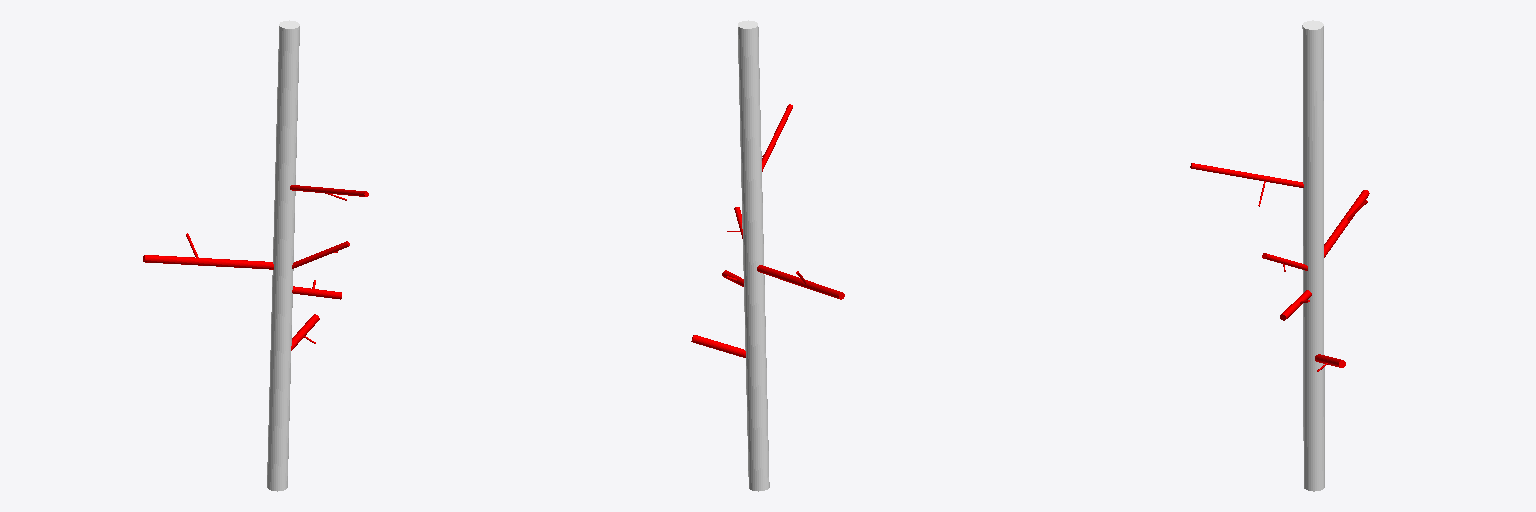
robot.urdf — tree_41.urdf:
<?xml version='1.0' encoding='UTF-8'?>
<robot name="tree_41.urdf">
  <link name="branch_0">
    <inertial>
      <origin xyz="0.0 0.0 0.0" rpy="0.0 -0.0 0.0"/>
      <mass value="0.1"/>
      <inertia ixx="0.001" ixy="0.0" ixz="0.0" iyy="0.001" iyz="0.0" izz="0.001"/>
    </inertial>
    <visual name="branch_0_visual">
      <geometry>
        <cylinder radius="0.19773685923757317" length="9.592322951526445"/>
      </geometry>
      <material name="branch_material"/>
      <origin xyz="0.12829743822661696 -0.010407475995628376 4.794433892899466" rpy="-4.3226096759708806e-19 0.0268411167059309 -0.08094266934738162"/>
    </visual>
    <collision name="branch_0_collision">
      <geometry>
        <cylinder radius="0.19773685923757317" length="9.592322951526445"/>
      </geometry>
      <origin xyz="0.12829743822661696 -0.010407475995628376 4.794433892899466" rpy="-4.3226096759708806e-19 0.0268411167059309 -0.08094266934738162"/>
    </collision>
  </link>
  <link name="branch_1">
    <inertial>
      <origin xyz="0.0 0.0 0.0" rpy="0.0 -0.0 0.0"/>
      <mass value="0.1"/>
      <inertia ixx="0.001" ixy="0.0" ixz="0.0" iyy="0.001" iyz="0.0" izz="0.001"/>
    </inertial>
    <visual name="branch_1_visual">
      <geometry>
        <cylinder radius="0.06951122537142407" length="1.1267371043997496"/>
      </geometry>
      <material name="semantic_material"/>
      <origin xyz="0.0 0.0 0.0" rpy="0.0 -0.0 0.0"/>
    </visual>
    <collision name="branch_1_collision">
      <geometry>
        <cylinder radius="0.06951122537142407" length="1.1267371043997496"/>
      </geometry>
      <origin xyz="0.0 0.0 0.0" rpy="0.0 -0.0 0.0"/>
    </collision>
  </link>
  <link name="branch_2">
    <inertial>
      <origin xyz="0.0 0.0 0.0" rpy="0.0 -0.0 0.0"/>
      <mass value="0.1"/>
      <inertia ixx="0.001" ixy="0.0" ixz="0.0" iyy="0.001" iyz="0.0" izz="0.001"/>
    </inertial>
    <visual name="branch_2_visual">
      <geometry>
        <cylinder radius="0.0241530656818183" length="0.29086684525932727"/>
      </geometry>
      <material name="semantic_material"/>
      <origin xyz="0.0 0.0 0.0" rpy="0.0 -0.0 0.0"/>
    </visual>
    <collision name="branch_2_collision">
      <geometry>
        <cylinder radius="0.0241530656818183" length="0.29086684525932727"/>
      </geometry>
      <origin xyz="0.0 0.0 0.0" rpy="0.0 -0.0 0.0"/>
    </collision>
  </link>
  <link name="branch_3">
    <inertial>
      <origin xyz="0.0 0.0 0.0" rpy="0.0 -0.0 0.0"/>
      <mass value="0.1"/>
      <inertia ixx="0.001" ixy="0.0" ixz="0.0" iyy="0.001" iyz="0.0" izz="0.001"/>
    </inertial>
    <visual name="branch_3_visual">
      <geometry>
        <cylinder radius="0.07347350046562605" length="2.684463624918934"/>
      </geometry>
      <material name="semantic_material"/>
      <origin xyz="0.0 0.0 0.0" rpy="0.0 -0.0 0.0"/>
    </visual>
    <collision name="branch_3_collision">
      <geometry>
        <cylinder radius="0.07347350046562605" length="2.684463624918934"/>
      </geometry>
      <origin xyz="0.0 0.0 0.0" rpy="0.0 -0.0 0.0"/>
    </collision>
  </link>
  <link name="branch_4">
    <inertial>
      <origin xyz="0.0 0.0 0.0" rpy="0.0 -0.0 0.0"/>
      <mass value="0.1"/>
      <inertia ixx="0.001" ixy="0.0" ixz="0.0" iyy="0.001" iyz="0.0" izz="0.001"/>
    </inertial>
    <visual name="branch_4_visual">
      <geometry>
        <cylinder radius="0.02771914354802177" length="0.5871243705240099"/>
      </geometry>
      <material name="semantic_material"/>
      <origin xyz="0.0 0.0 0.0" rpy="0.0 -0.0 0.0"/>
    </visual>
    <collision name="branch_4_collision">
      <geometry>
        <cylinder radius="0.02771914354802177" length="0.5871243705240099"/>
      </geometry>
      <origin xyz="0.0 0.0 0.0" rpy="0.0 -0.0 0.0"/>
    </collision>
  </link>
  <link name="branch_5">
    <inertial>
      <origin xyz="0.0 0.0 0.0" rpy="0.0 -0.0 0.0"/>
      <mass value="0.1"/>
      <inertia ixx="0.001" ixy="0.0" ixz="0.0" iyy="0.001" iyz="0.0" izz="0.001"/>
    </inertial>
    <visual name="branch_5_visual">
      <geometry>
        <cylinder radius="0.05371794534878604" length="1.464254852506283"/>
      </geometry>
      <material name="semantic_material"/>
      <origin xyz="0.0 0.0 0.0" rpy="0.0 -0.0 0.0"/>
    </visual>
    <collision name="branch_5_collision">
      <geometry>
        <cylinder radius="0.05371794534878604" length="1.464254852506283"/>
      </geometry>
      <origin xyz="0.0 0.0 0.0" rpy="0.0 -0.0 0.0"/>
    </collision>
  </link>
  <link name="branch_6">
    <inertial>
      <origin xyz="0.0 0.0 0.0" rpy="0.0 -0.0 0.0"/>
      <mass value="0.1"/>
      <inertia ixx="0.001" ixy="0.0" ixz="0.0" iyy="0.001" iyz="0.0" izz="0.001"/>
    </inertial>
    <visual name="branch_6_visual">
      <geometry>
        <cylinder radius="0.01232057528896438" length="0.34513352453693524"/>
      </geometry>
      <material name="semantic_material"/>
      <origin xyz="0.0 0.0 0.0" rpy="0.0 -0.0 0.0"/>
    </visual>
    <collision name="branch_6_collision">
      <geometry>
        <cylinder radius="0.01232057528896438" length="0.34513352453693524"/>
      </geometry>
      <origin xyz="0.0 0.0 0.0" rpy="0.0 -0.0 0.0"/>
    </collision>
  </link>
  <link name="branch_7">
    <inertial>
      <origin xyz="0.0 0.0 0.0" rpy="0.0 -0.0 0.0"/>
      <mass value="0.1"/>
      <inertia ixx="0.001" ixy="0.0" ixz="0.0" iyy="0.001" iyz="0.0" izz="0.001"/>
    </inertial>
    <visual name="branch_7_visual">
      <geometry>
        <cylinder radius="0.053992695849019" length="2.4079788168820113"/>
      </geometry>
      <material name="semantic_material"/>
      <origin xyz="0.0 0.0 0.0" rpy="0.0 -0.0 0.0"/>
    </visual>
    <collision name="branch_7_collision">
      <geometry>
        <cylinder radius="0.053992695849019" length="2.4079788168820113"/>
      </geometry>
      <origin xyz="0.0 0.0 0.0" rpy="0.0 -0.0 0.0"/>
    </collision>
  </link>
  <link name="branch_8">
    <inertial>
      <origin xyz="0.0 0.0 0.0" rpy="0.0 -0.0 0.0"/>
      <mass value="0.1"/>
      <inertia ixx="0.001" ixy="0.0" ixz="0.0" iyy="0.001" iyz="0.0" izz="0.001"/>
    </inertial>
    <visual name="branch_8_visual">
      <geometry>
        <cylinder radius="0.01663323790289368" length="0.6523324553112535"/>
      </geometry>
      <material name="semantic_material"/>
      <origin xyz="0.0 0.0 0.0" rpy="0.0 -0.0 0.0"/>
    </visual>
    <collision name="branch_8_collision">
      <geometry>
        <cylinder radius="0.01663323790289368" length="0.6523324553112535"/>
      </geometry>
      <origin xyz="0.0 0.0 0.0" rpy="0.0 -0.0 0.0"/>
    </collision>
  </link>
  <link name="branch_9">
    <inertial>
      <origin xyz="0.0 0.0 0.0" rpy="0.0 -0.0 0.0"/>
      <mass value="0.1"/>
      <inertia ixx="0.001" ixy="0.0" ixz="0.0" iyy="0.001" iyz="0.0" izz="0.001"/>
    </inertial>
    <visual name="branch_9_visual">
      <geometry>
        <cylinder radius="0.07675796003478398" length="1.2572040819204324"/>
      </geometry>
      <material name="semantic_material"/>
      <origin xyz="0.0 0.0 0.0" rpy="0.0 -0.0 0.0"/>
    </visual>
    <collision name="branch_9_collision">
      <geometry>
        <cylinder radius="0.07675796003478398" length="1.2572040819204324"/>
      </geometry>
      <origin xyz="0.0 0.0 0.0" rpy="0.0 -0.0 0.0"/>
    </collision>
  </link>
  <link name="branch_10">
    <inertial>
      <origin xyz="0.0 0.0 0.0" rpy="0.0 -0.0 0.0"/>
      <mass value="0.1"/>
      <inertia ixx="0.001" ixy="0.0" ixz="0.0" iyy="0.001" iyz="0.0" izz="0.001"/>
    </inertial>
    <visual name="branch_10_visual">
      <geometry>
        <cylinder radius="0.018024880596259545" length="0.32980323476158147"/>
      </geometry>
      <material name="semantic_material"/>
      <origin xyz="0.0 0.0 0.0" rpy="0.0 -0.0 0.0"/>
    </visual>
    <collision name="branch_10_collision">
      <geometry>
        <cylinder radius="0.018024880596259545" length="0.32980323476158147"/>
      </geometry>
      <origin xyz="0.0 0.0 0.0" rpy="0.0 -0.0 0.0"/>
    </collision>
  </link>
  <joint name="joint_0_1" type="fixed">
    <parent link="branch_0"/>
    <child link="branch_1"/>
    <axis xyz="1. 0. 0."/>
    <origin xyz="0.5902464575054881 -0.29444711809302015 4.04325752123933" rpy="-3.051440084228898 1.4396398821064715 2.696003339625347"/>
  </joint>
  <joint name="joint_0_3" type="fixed">
    <parent link="branch_0"/>
    <child link="branch_3"/>
    <axis xyz="1. 0. 0."/>
    <origin xyz="-1.1165929147920053 0.4754111345506784 4.753829459485494" rpy="0.059110629174011345 1.439879502417253 2.8278911214277667"/>
  </joint>
  <joint name="joint_0_5" type="fixed">
    <parent link="branch_0"/>
    <child link="branch_5"/>
    <axis xyz="1. 0. 0."/>
    <origin xyz="0.5695518835939737 -0.467679073970208 4.8602114690398315" rpy="-0.036839169139339725 1.0669113093615779 -0.8373273260057177"/>
  </joint>
  <joint name="joint_0_7" type="fixed">
    <parent link="branch_0"/>
    <child link="branch_7"/>
    <axis xyz="1. 0. 0."/>
    <origin xyz="0.39920454271578193 -1.1484118350393941 6.55293639525652" rpy="-0.09455545802994292 1.2937456715112856 -1.4669045314066966"/>
  </joint>
  <joint name="joint_0_9" type="fixed">
    <parent link="branch_0"/>
    <child link="branch_9"/>
    <axis xyz="1. 0. 0."/>
    <origin xyz="0.6125537776262892 0.2597601193885906 2.8752296134861624" rpy="0.04822681053368816 1.2794917051853392 0.5071455206102553"/>
  </joint>
  <joint name="joint_1_2" type="fixed">
    <parent link="branch_0"/>
    <child link="branch_2"/>
    <axis xyz="1. 0. 0."/>
    <origin xyz="0.6832868719802503 -0.20011758687937756 4.106300895888684" rpy="1.104692517549504 -0.17064903009390492 2.5258211351331736"/>
  </joint>
  <joint name="joint_3_4" type="fixed">
    <parent link="branch_0"/>
    <child link="branch_4"/>
    <axis xyz="1. 0. 0."/>
    <origin xyz="-1.3891666992078273 0.7805393777906368 5.000745317529012" rpy="-0.7571855683004579 -0.16361048397619957 -0.09914566591994803"/>
  </joint>
  <joint name="joint_5_6" type="fixed">
    <parent link="branch_0"/>
    <child link="branch_6"/>
    <axis xyz="1. 0. 0."/>
    <origin xyz="0.8445724896780098 -0.5589105899780518 4.914065108838893" rpy="1.7921237576693885 0.6827624445418738 1.810022728797618"/>
  </joint>
  <joint name="joint_7_8" type="fixed">
    <parent link="branch_0"/>
    <child link="branch_8"/>
    <axis xyz="1. 0. 0."/>
    <origin xyz="0.6328900963142268 -0.9632777522761281 6.334220078593741" rpy="2.0819131684676253 0.39348563685073323 1.5682059607827843"/>
  </joint>
  <joint name="joint_9_10" type="fixed">
    <parent link="branch_0"/>
    <child link="branch_10"/>
    <axis xyz="1. 0. 0."/>
    <origin xyz="0.7808673403958618 0.1777393163022926 2.833840695620876" rpy="-2.0139731024378142 0.31161695519666816 -2.6399910497544643"/>
  </joint>
  <material name="branch_material">
    <color rgba="1. 1. 1. 1."/>
  </material>
  <material name="semantic_material">
    <color rgba="1. 0. 0. 1."/>
  </material>
</robot>

--- Facts derived from the render (not from the file) ---
The picture shows the robot from 3 angles, left to right: view 1: azimuth 30°, elevation 25°; view 2: azimuth 150°, elevation 25°; view 3: azimuth 270°, elevation 25°; orthographic projection.
Robot: tree_41.urdf — 11 links, 10 joints (10 fixed); root link branch_0; default pose: every joint at zero.
Links seen in each view (by area): view 1: branch_0, branch_3; view 2: branch_0, branch_3; view 3: branch_0, branch_7, branch_3.
Boxes of the visible links, box(x1,y1,x2,y2) form: branch_0: box(267, 20, 299, 491); branch_3: box(143, 255, 273, 269); branch_0: box(738, 20, 769, 491); branch_3: box(757, 265, 844, 299); branch_0: box(1302, 20, 1324, 491); branch_7: box(1190, 163, 1303, 187); branch_3: box(1324, 190, 1369, 257).
Bounding box of the posed robot: 3.58 × 3.33 × 9.6 m (x, y, z).
Geometry: primitives only (box / cylinder / sphere), no mesh files.